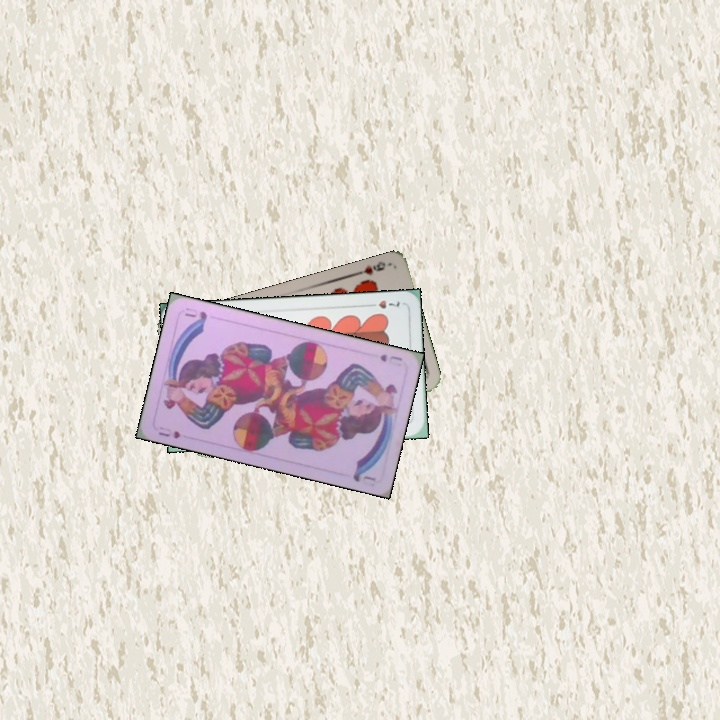H7: (364, 296, 402, 311)
H9: (352, 257, 392, 278)
SU: (155, 422, 183, 441), (376, 350, 405, 367)
